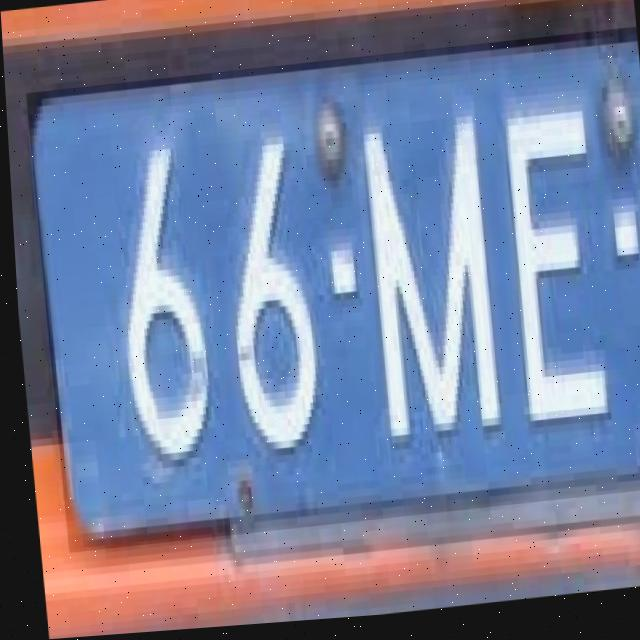LicensePlate: (23, 36, 640, 554)
